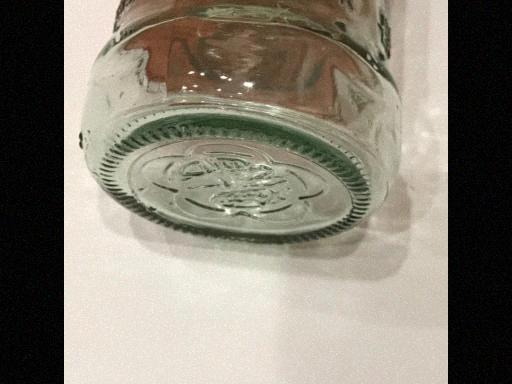glass: (79, 1, 401, 246)
